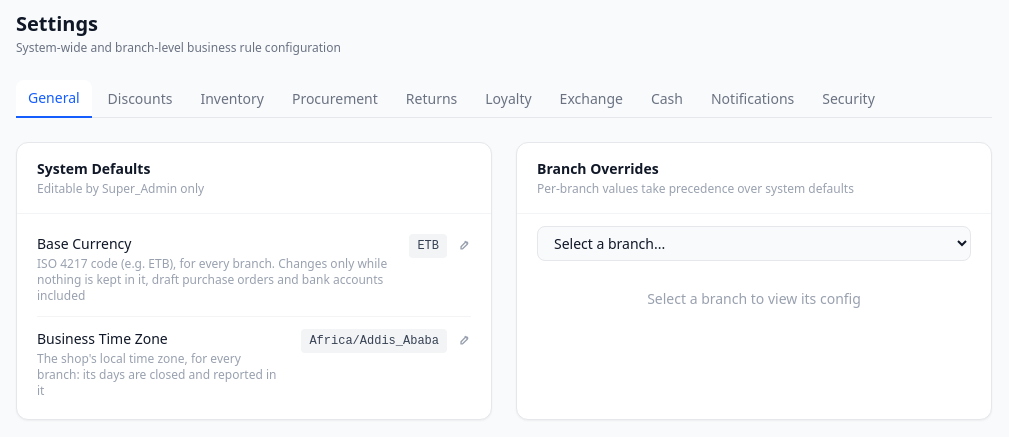
Settings › refuses an empty number and sends nothing (was: sent as null)
Click the button "Returns".
click(432, 99)  # box [394,80,469,118]
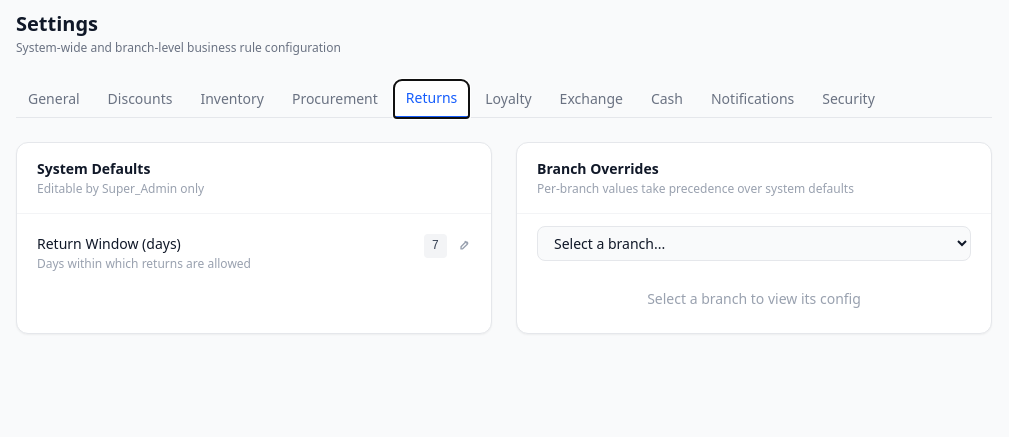
Click the button titled "Edit".
click(463, 246)  # box [455,238,471,254]
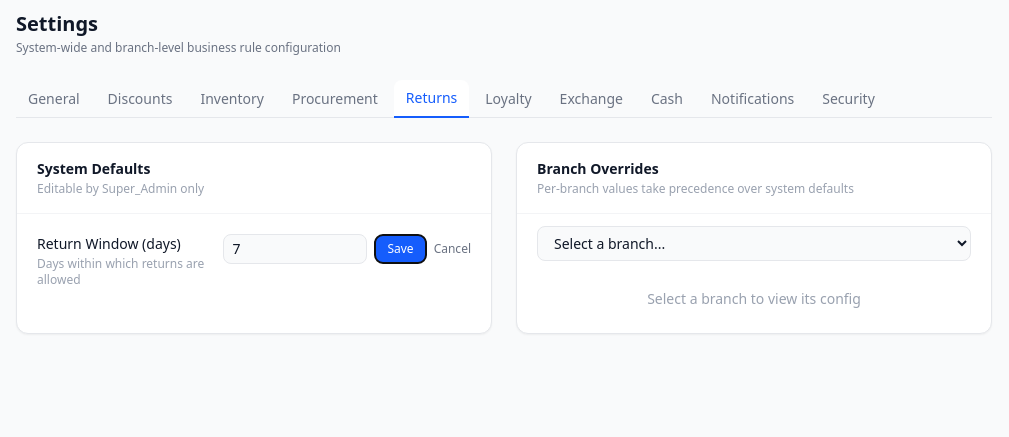
Clear the number field at (296, 249), box [224,234,368,264]
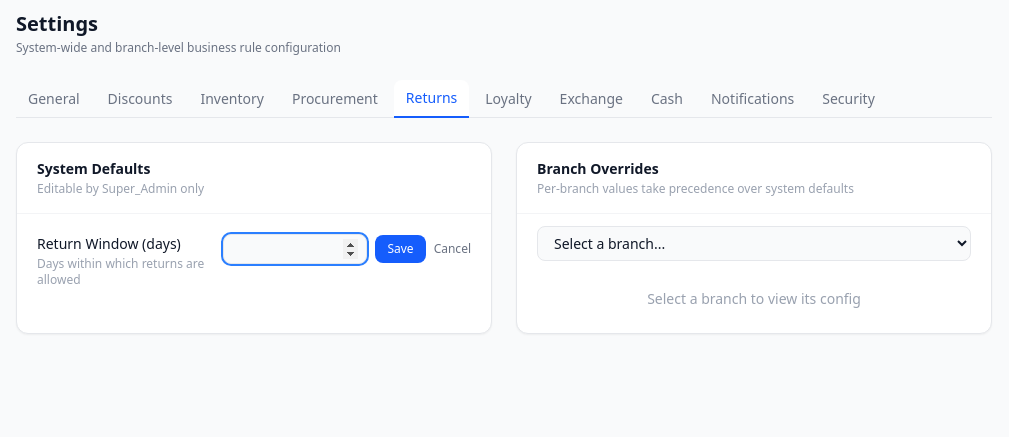
Click the button "Save".
click(401, 249)  # box [376,235,426,263]
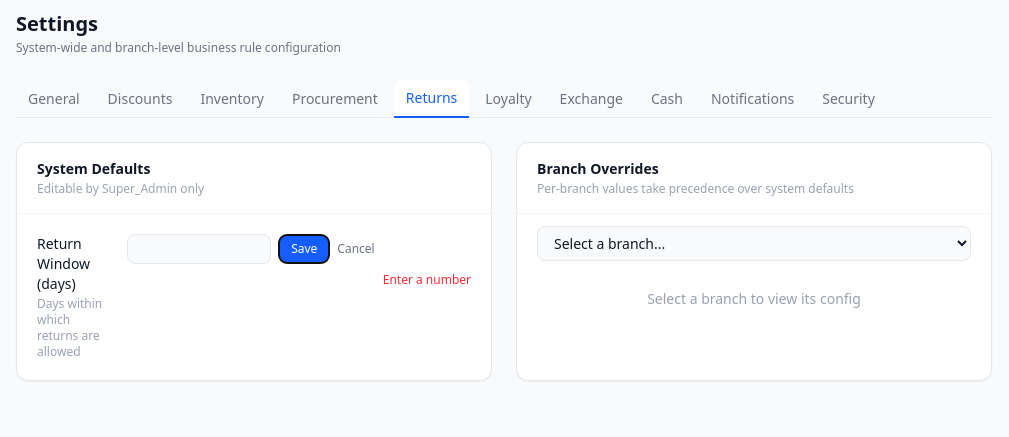
expect the message reads "Enter a number": met, box [383,271,471,288]
